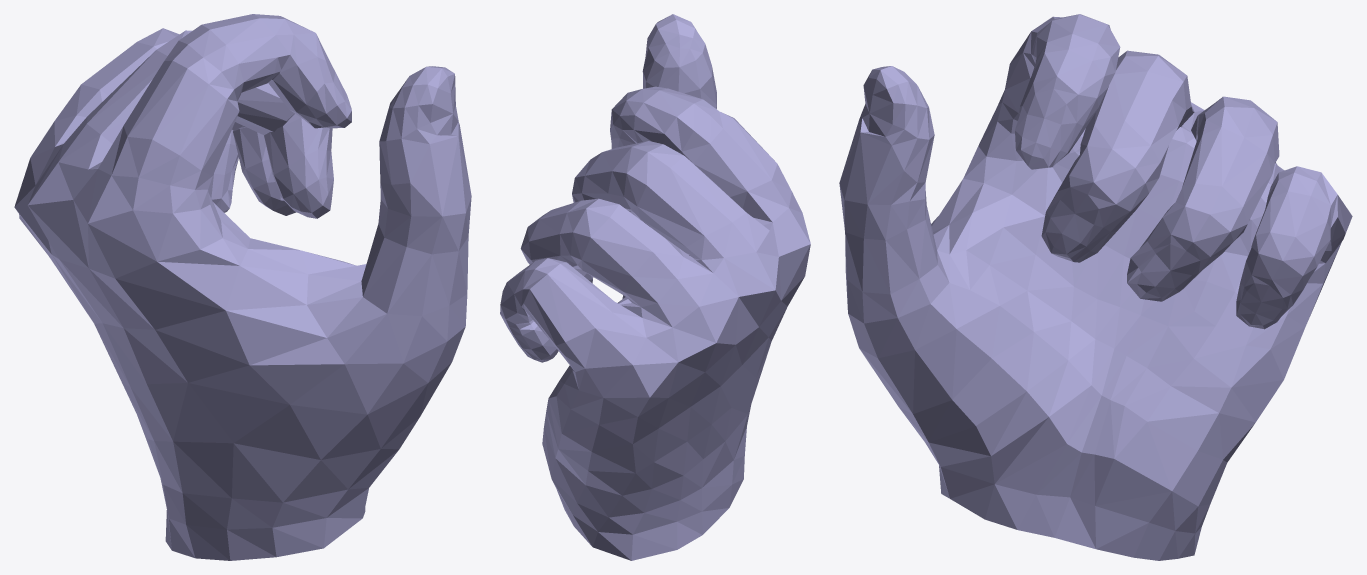
The model's file is frame_0093_source_000093_hand.glb.
3 views of the same model, side by side, from view 1: azimuth 30°, elevation 25°; view 2: azimuth 150°, elevation 25°; view 3: azimuth 270°, elevation 25° (orthographic). The views are drawn at different scales.
Parts seen in each view (by area): view 1: world; view 2: world; view 3: world.
Boxes of the visible parts, x1,y1,x2,y2 form: world: (14,14,471,560); world: (500,14,810,560); world: (839,14,1352,560).
Bounding box in the file's own units: 0.0671 × 0.1173 × 0.1042.
